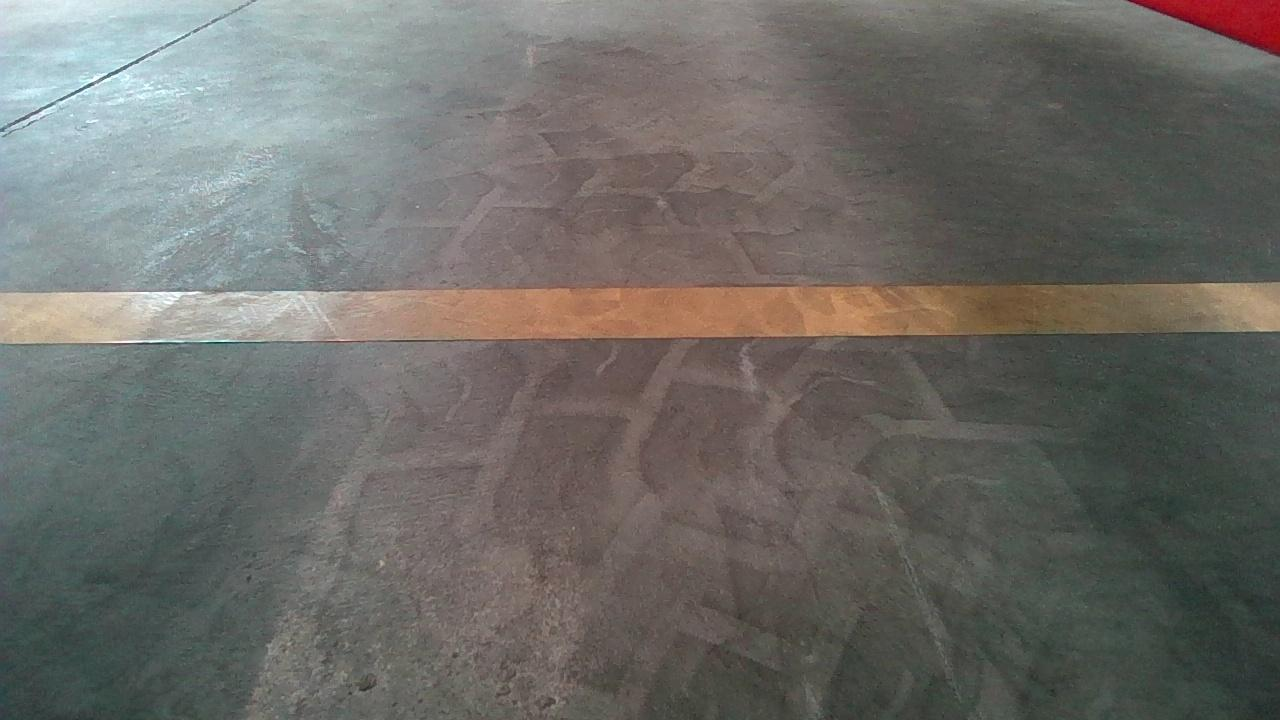yellow_line: (0, 276, 1274, 343)
